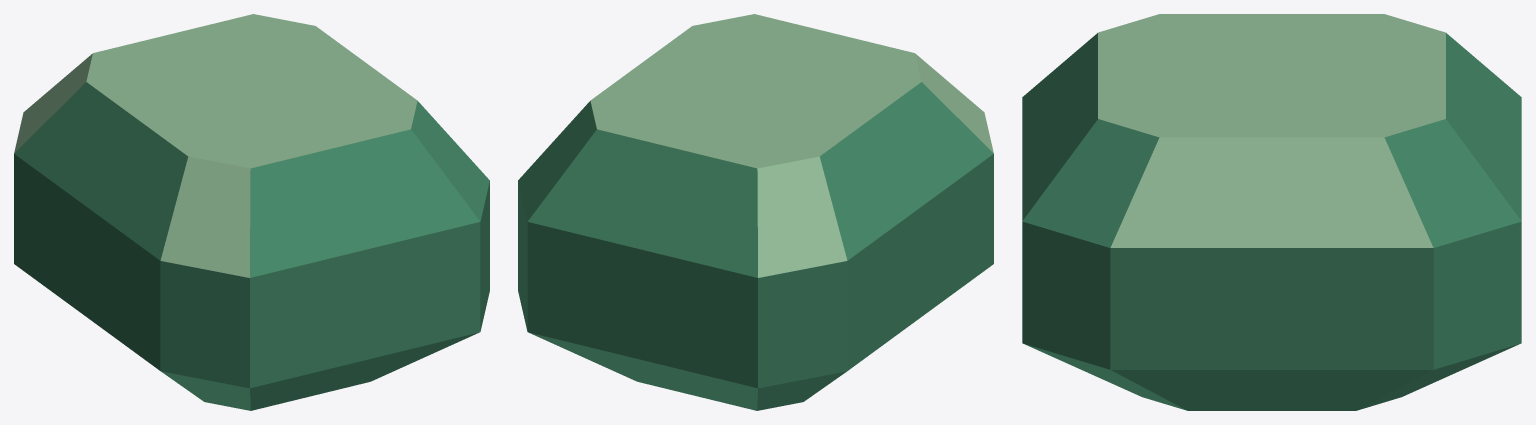
File: item_crystal_emerald.glb
The picture shows the model from 3 angles, left to right: view 1: azimuth 30°, elevation 25°; view 2: azimuth 150°, elevation 25°; view 3: azimuth 270°, elevation 25°; orthographic projection. The views are drawn at different scales.
Parts seen in each view (by area): view 1: item_crystal_emerald; view 2: item_crystal_emerald; view 3: item_crystal_emerald.
Part boxes in pixels (x1,y1,x2,y2): item_crystal_emerald: [14, 14, 489, 410]; item_crystal_emerald: [518, 14, 993, 410]; item_crystal_emerald: [1022, 14, 1521, 410].
Size of the model in its own units: 0.25 by 0.19 by 0.2975.
